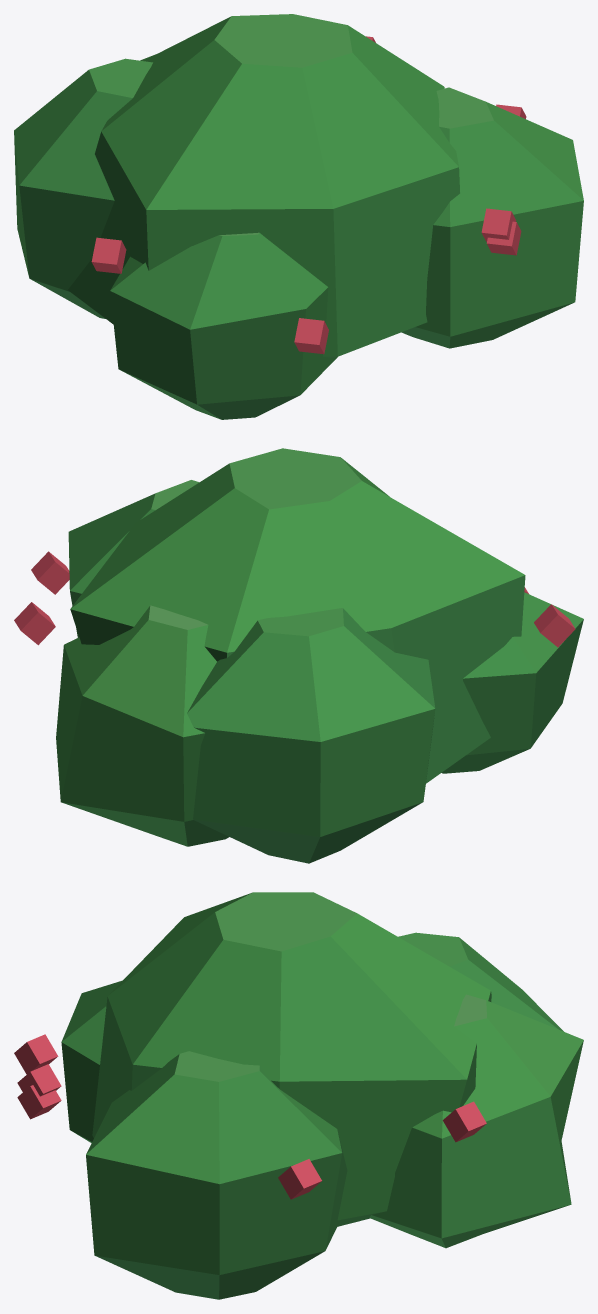
File: bush.glb
3 views of the same model, one above another, from view 1: azimuth 30°, elevation 25°; view 2: azimuth 150°, elevation 25°; view 3: azimuth 270°, elevation 25° (orthographic).
Visible parts, largest first — view 1: bush; view 2: bush; view 3: bush.
Boxes of the visible parts, left/top/right/bottom form: bush: left=14, top=14, right=583, bottom=419; bush: left=14, top=448, right=583, bottom=863; bush: left=14, top=892, right=583, bottom=1299.
Bounding box in the file's own units: 1.54 × 0.8921 × 1.54.
